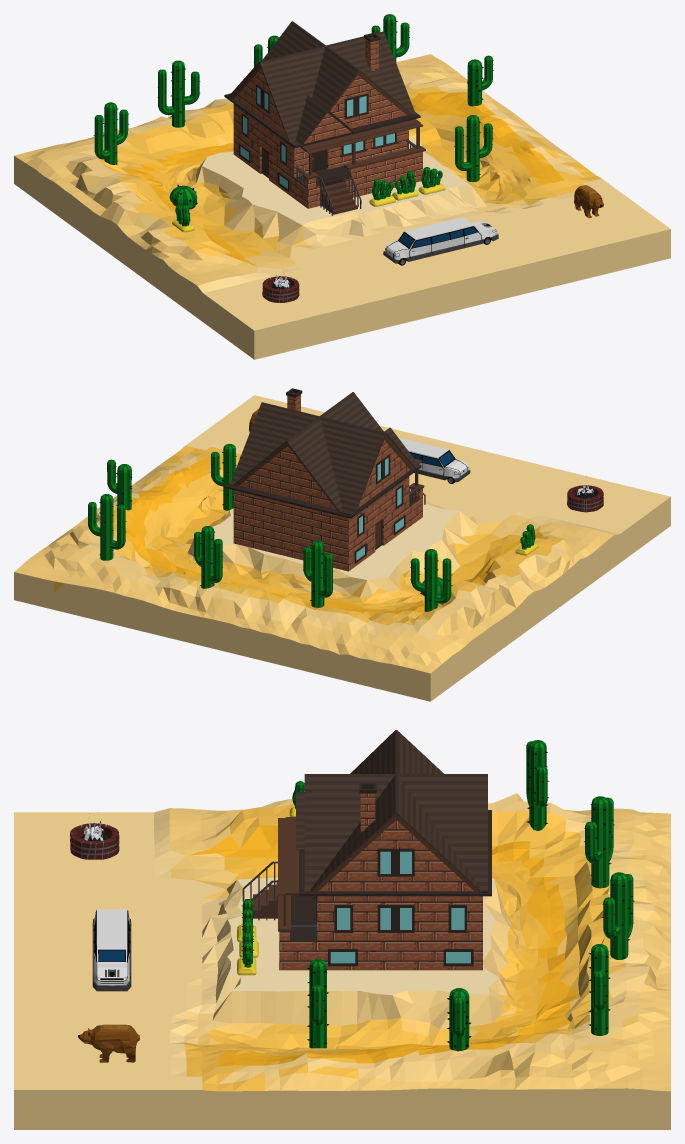
3 renders of one model, top to bottom at view 1: azimuth 30°, elevation 25°; view 2: azimuth 150°, elevation 25°; view 3: azimuth 270°, elevation 25°, orthographic. The views are drawn at different scales.
Parts seen in each view (by area): view 1: Cube.001, Cube.469, VEHICLES_LIMOUSINE, Cylinder.037, Cylinder.044, Cylinder.045, Cylinder.038, OBJRANDOM_CAMPFIRE, Cylinder.042, ANIMAL_OSO, Cylinder.039, Cylinder.041 (+2 smaller); view 2: Cube.001, Cube.469, VEHICLES_LIMOUSINE, Cylinder.042, Cylinder.045, Cylinder.044, Cylinder.043, Cylinder.037, Cylinder.038, OBJRANDOM_CAMPFIRE; view 3: Cube.001, Cube.469, VEHICLES_LIMOUSINE, Cylinder.043, Cylinder.044, Cylinder.045, Cylinder.042, OBJRANDOM_CAMPFIRE, Cylinder.037, ANIMAL_OSO, Cylinder.038, Cylinder.041.
Boxes of the visible parts, x1,y1,x2,y2 form: Cube.001: (14,54,670,359); Cube.469: (224,21,425,215); VEHICLES_LIMOUSINE: (383,217,498,265); Cylinder.037: (454,115,493,182); Cylinder.044: (157,60,200,127); Cylinder.045: (93,102,129,164); Cylinder.038: (467,55,493,106); OBJRANDOM_CAMPFIRE: (262,274,299,302); Cylinder.042: (371,14,409,62); ANIMAL_OSO: (574,185,603,218); Cylinder.039: (369,179,395,206); Cylinder.041: (418,167,445,194); Cube.001: (14,395,670,701); Cube.469: (225,388,425,571); VEHICLES_LIMOUSINE: (398,437,470,483); Cylinder.042: (88,494,126,560); Cylinder.045: (410,549,452,611); Cylinder.044: (303,540,333,607); Cylinder.043: (193,526,222,588); Cylinder.037: (211,444,240,510); Cylinder.038: (107,459,131,510); OBJRANDOM_CAMPFIRE: (567,484,603,512); Cube.001: (14,793,670,1129); Cube.469: (242,730,491,970); VEHICLES_LIMOUSINE: (92,909,131,991); Cylinder.043: (602,872,634,959); Cylinder.044: (584,796,614,888); Cylinder.045: (526,740,549,830); Cylinder.042: (588,944,610,1035); OBJRANDOM_CAMPFIRE: (70,821,119,859); Cylinder.037: (307,959,329,1048); ANIMAL_OSO: (78,1024,139,1062); Cylinder.038: (447,988,471,1051); Cylinder.041: (237,932,256,975).
Bounding box in the file's own units: 4002 × 1643 × 4001.
Materials: 31 (3 with a texture image).
